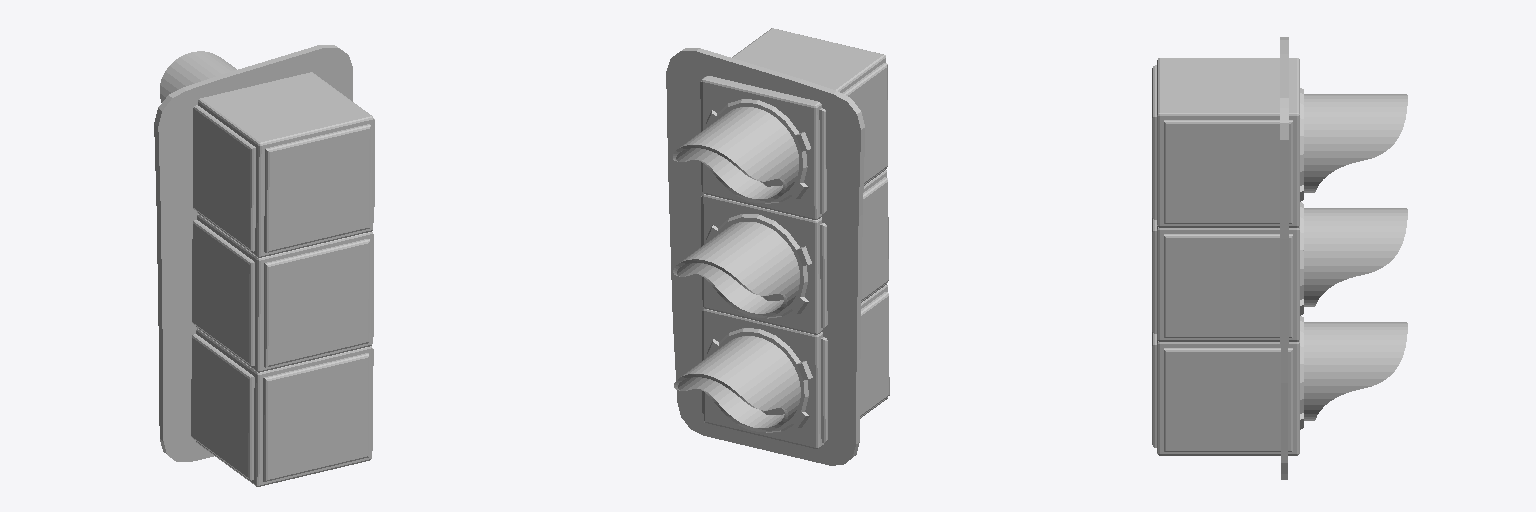
File: trafficlight.obj
3 renders of one model, left to right at view 1: azimuth 30°, elevation 25°; view 2: azimuth 150°, elevation 25°; view 3: azimuth 270°, elevation 25°, orthographic.
Visible parts, largest first — view 1: yellow, white; view 2: yellow, white; view 3: yellow, white.
Boxes of the visible parts, x1,y1,x2,y2 form: yellow: [160, 51, 374, 486]; white: [154, 45, 352, 461]; yellow: [673, 28, 889, 448]; white: [666, 48, 864, 465]; yellow: [1152, 58, 1407, 455]; white: [1280, 37, 1288, 479].
Bounding box in the file's own units: 172 × 323 × 196.